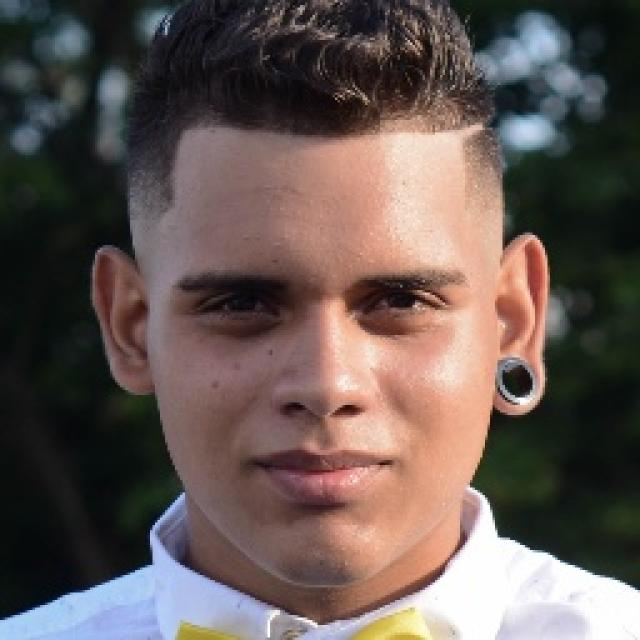earlobe: (493, 359, 545, 415), (115, 353, 154, 396)
eye: (360, 288, 445, 318), (198, 292, 278, 320)
nose: (277, 409, 364, 441)
wholeear: (492, 232, 550, 414), (91, 245, 154, 397)
